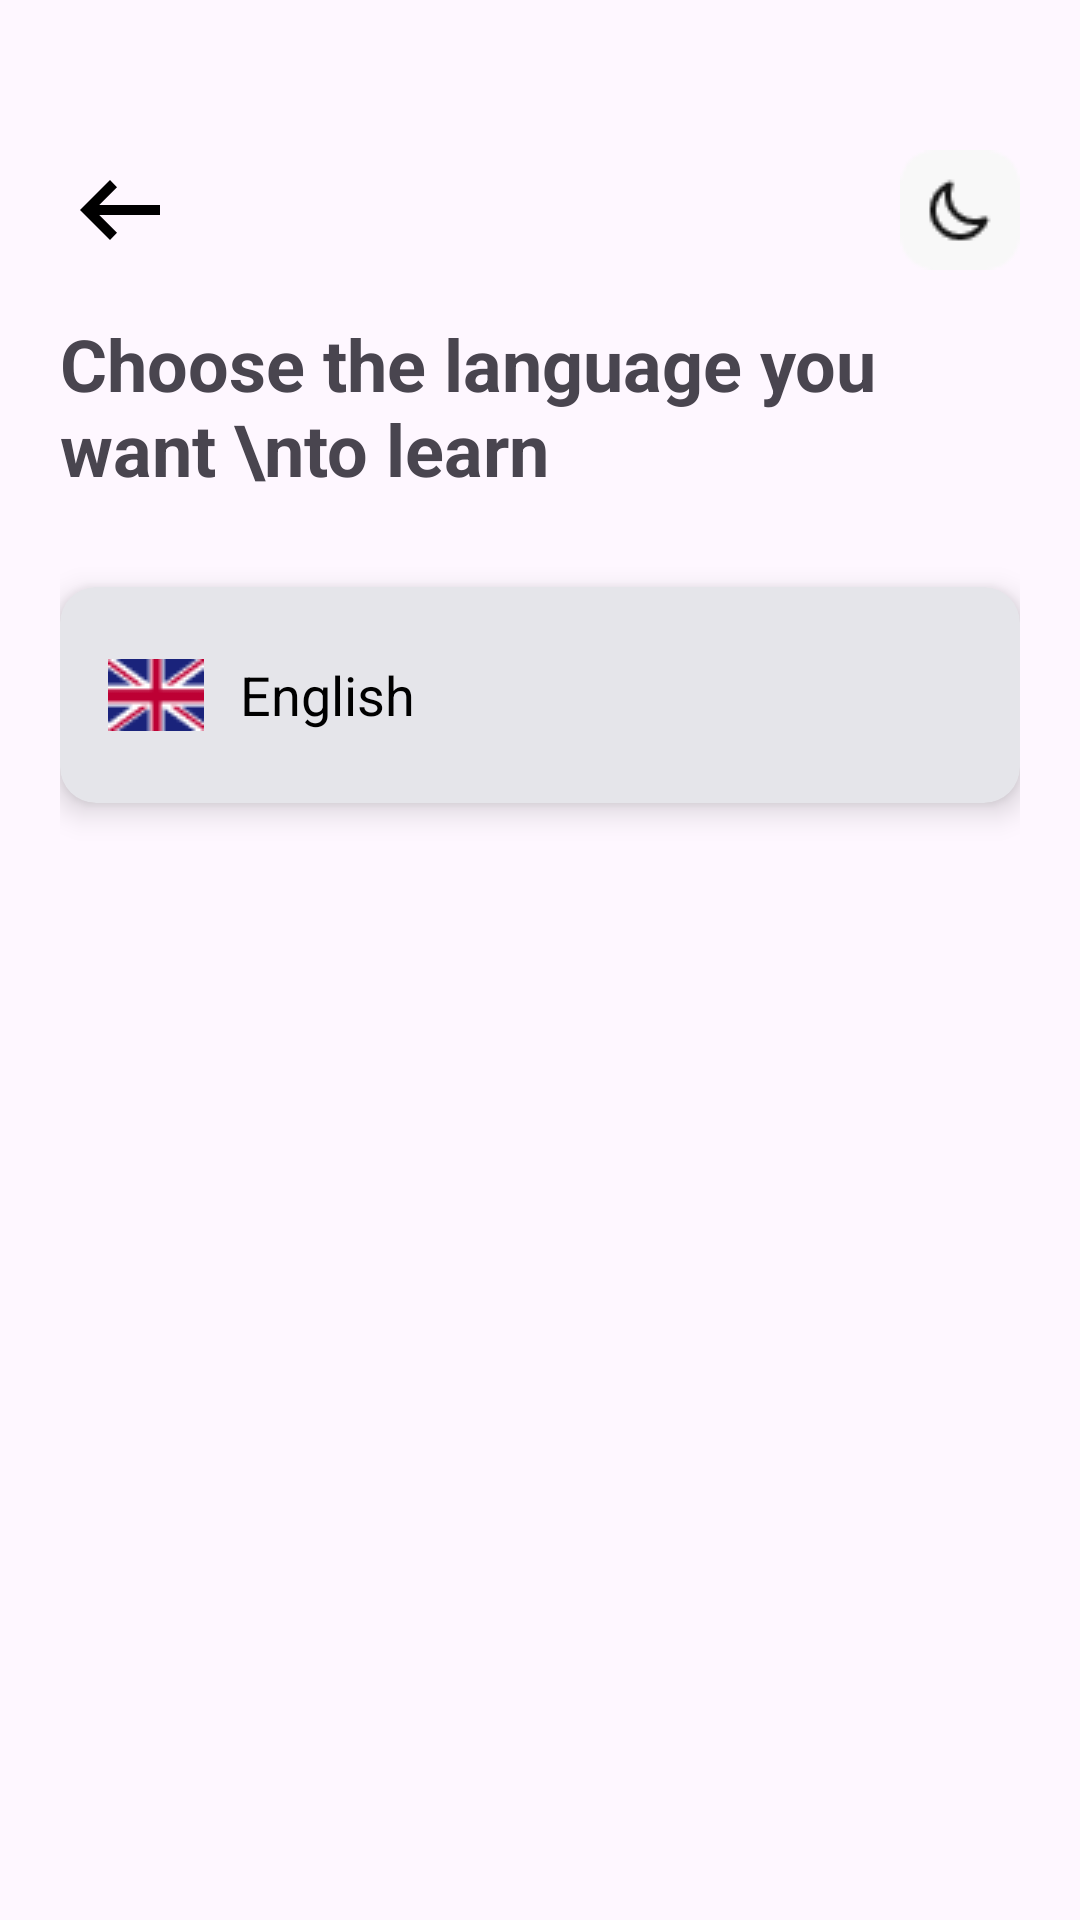

Where icons sit on this 1080px×1920px app screen, as bbox=[x1, y1, x2, y2]:
arrow left: bbox=[80, 180, 160, 240]
UK Flag: bbox=[108, 659, 204, 731]
